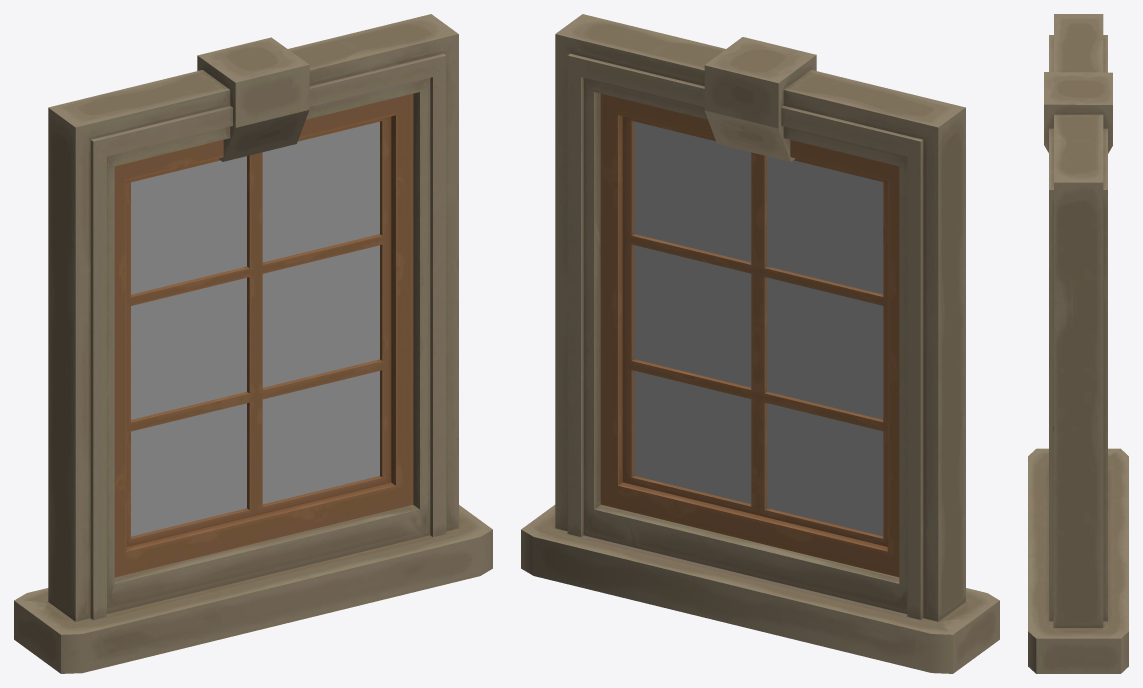
The model's file is ARC0510040.fbx.
3 views of the same model, side by side, from view 1: azimuth 30°, elevation 25°; view 2: azimuth 150°, elevation 25°; view 3: azimuth 270°, elevation 25° (orthographic). The views are drawn at different scales.
Visible parts, largest first — view 1: smARC0510040; view 2: smARC0510040; view 3: smARC0510040.
Part boxes in pixels (x1,y1,x2,y2): smARC0510040: (14,14,492,673); smARC0510040: (521,14,999,673); smARC0510040: (1028,14,1128,673).
Bounding box in the file's own units: 148 × 179 × 33.25.
Materials: 2 (1 with a texture image).
